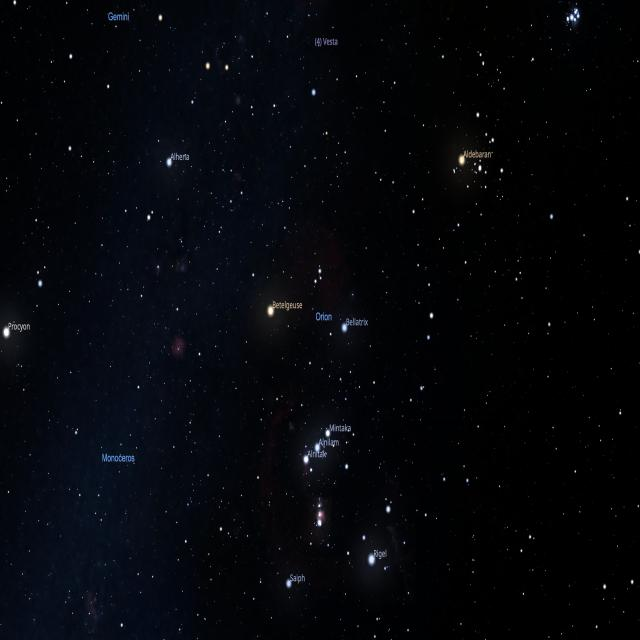Orion: (229, 99, 440, 585)
